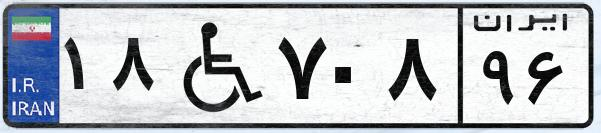0: (330, 28, 385, 110)
1: (57, 26, 110, 100)
6: (525, 38, 570, 115)
7: (270, 28, 330, 110)
8: (385, 28, 445, 110), (110, 28, 158, 98)
9: (475, 38, 525, 113)
ژ (معلولین و جانبازان): (158, 12, 270, 120)
